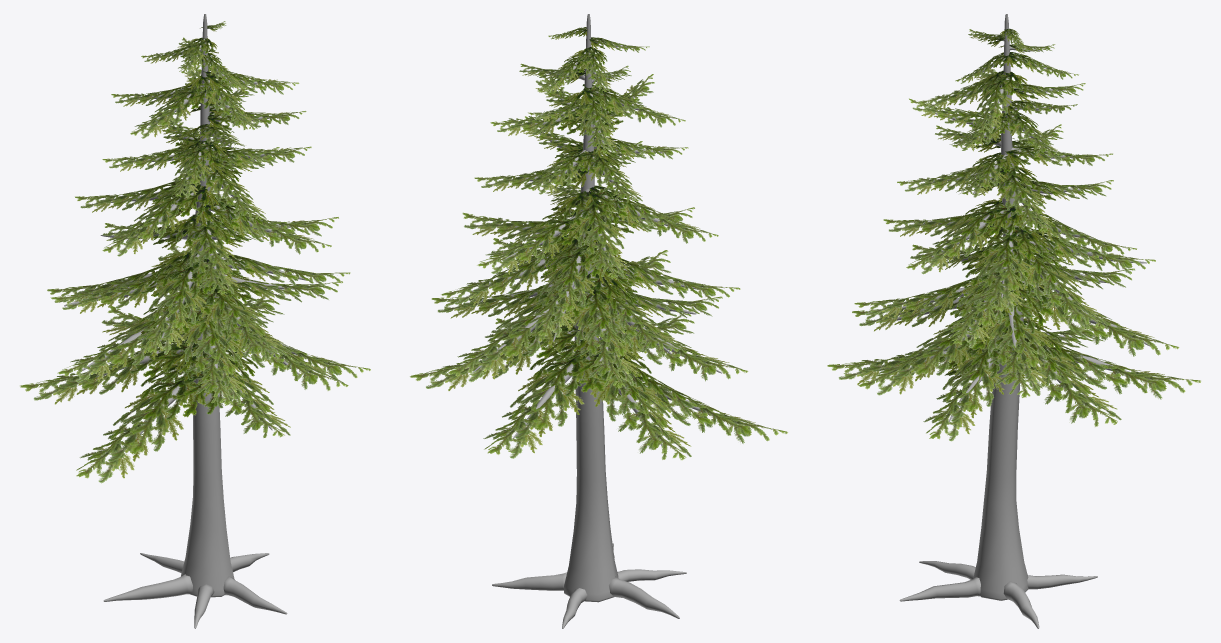
File: LodgepolePine.fbx
The picture shows the model from 3 angles, left to right: view 1: azimuth 30°, elevation 25°; view 2: azimuth 150°, elevation 25°; view 3: azimuth 270°, elevation 25°; orthographic projection.
Visible parts, largest first — view 1: LodgepolePine_leaves, LodgepolePine_Trunk_branches; view 2: LodgepolePine_leaves, LodgepolePine_Trunk_branches; view 3: LodgepolePine_leaves, LodgepolePine_Trunk_branches.
Part boxes in pixels (x1,y1,x2,y2): LodgepolePine_leaves: [20, 21, 370, 483]; LodgepolePine_Trunk_branches: [64, 14, 309, 628]; LodgepolePine_leaves: [410, 27, 787, 460]; LodgepolePine_Trunk_branches: [472, 14, 721, 628]; LodgepolePine_leaves: [827, 28, 1200, 441]; LodgepolePine_Trunk_branches: [880, 14, 1150, 628].
Bounding box in the file's own units: 5.35 × 9.25 × 5.59.
Materials: 2 (1 with a texture image).
